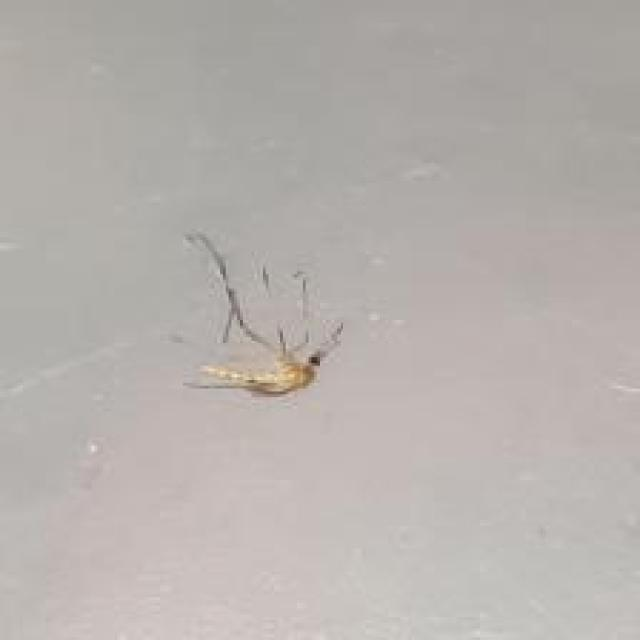Culex: (179, 229, 344, 397)
